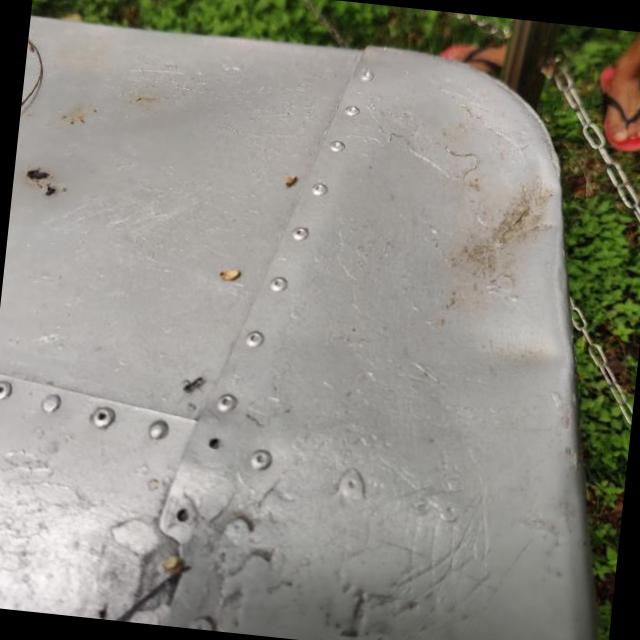Dent: (459, 271, 575, 427)
Scratch: (341, 453, 494, 631)
